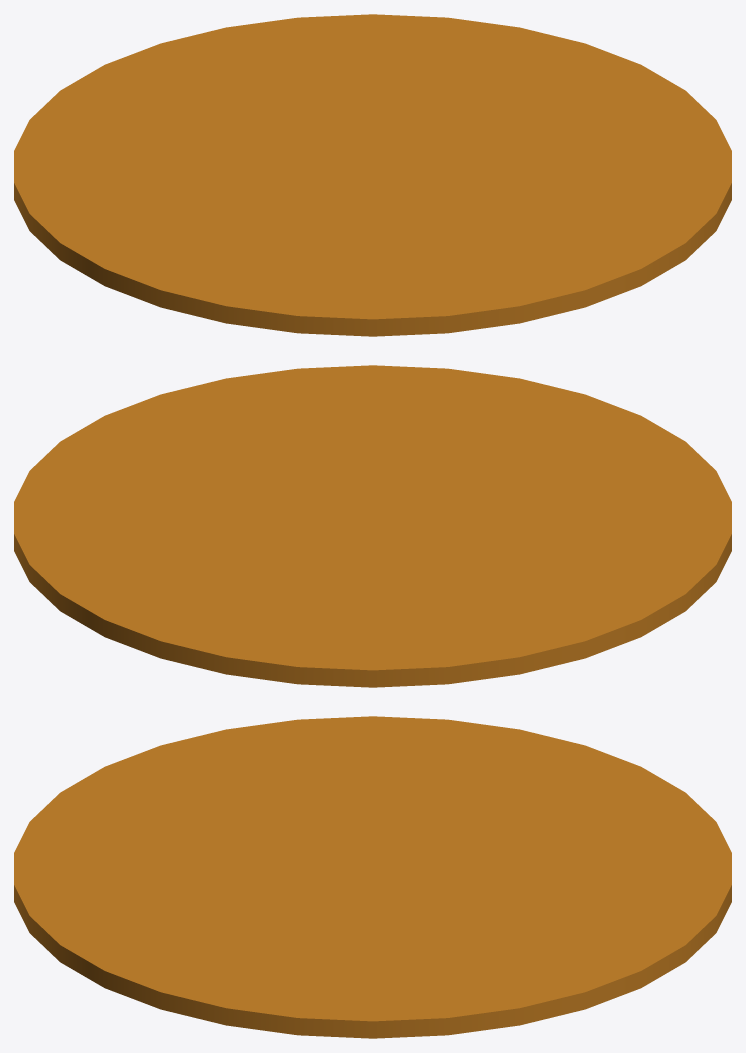
The picture shows the model from 3 angles, top to bottom: view 1: azimuth 30°, elevation 25°; view 2: azimuth 150°, elevation 25°; view 3: azimuth 270°, elevation 25°; orthographic projection.
Parts seen in each view (by area): view 1: Cylinder003; view 2: Cylinder003; view 3: Cylinder003.
Boxes of the visible parts, x1=… form: Cylinder003: x1=14, y1=14, x2=731, y2=336; Cylinder003: x1=14, y1=365, x2=731, y2=687; Cylinder003: x1=14, y1=716, x2=731, y2=1038.
Size of the model in its own units: 66.6 by 1.76 by 66.24.
